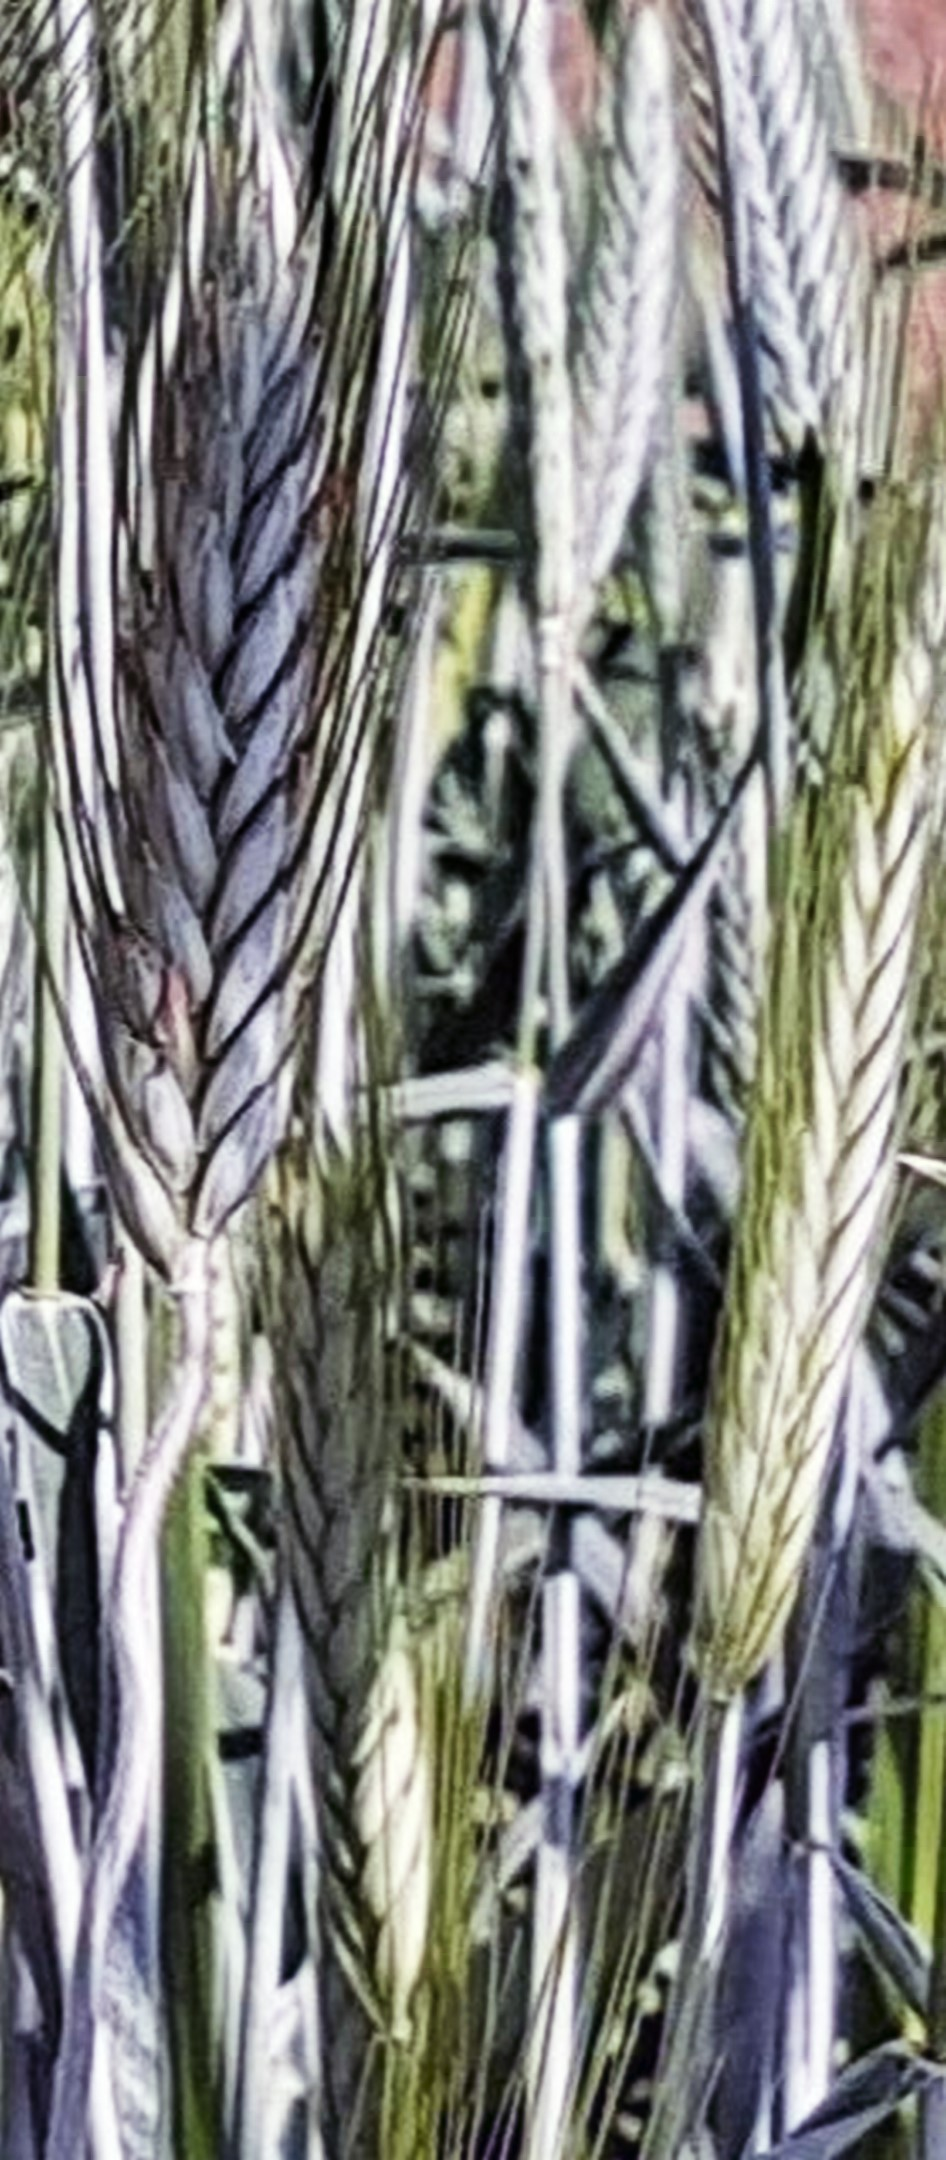Healthy Wheat: (74, 208, 388, 1256), (660, 705, 946, 1683)
